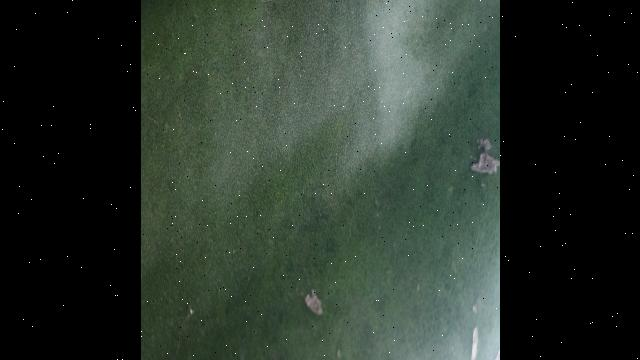stemcanker: (466, 137, 499, 178), (298, 286, 328, 320)
